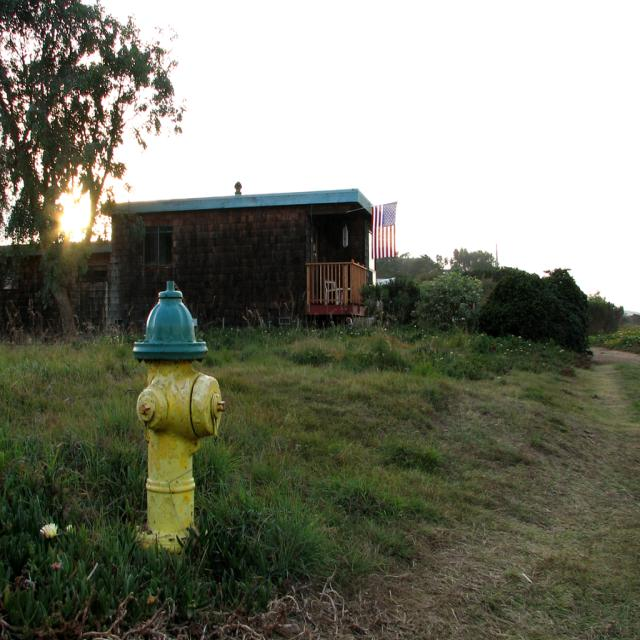fire_hydrant: (135, 280, 224, 552)
